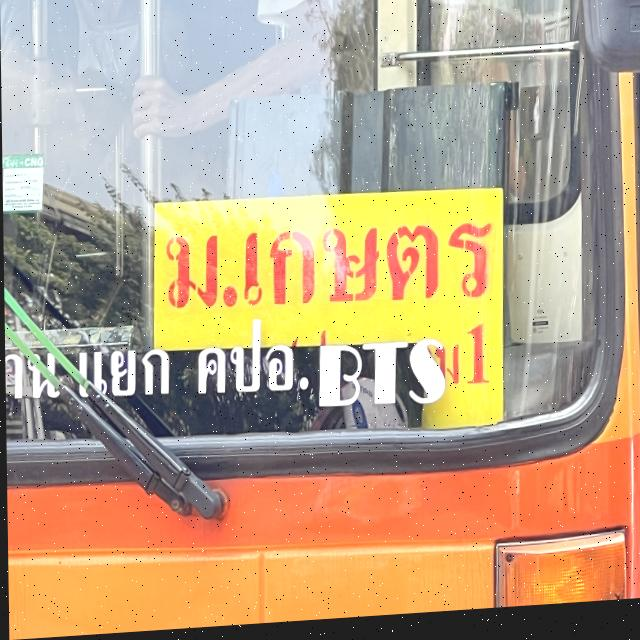BMTA-bus: (0, 0, 640, 640)
Destination-Sign-Extra-Bus-Expressway: (148, 184, 502, 450)
